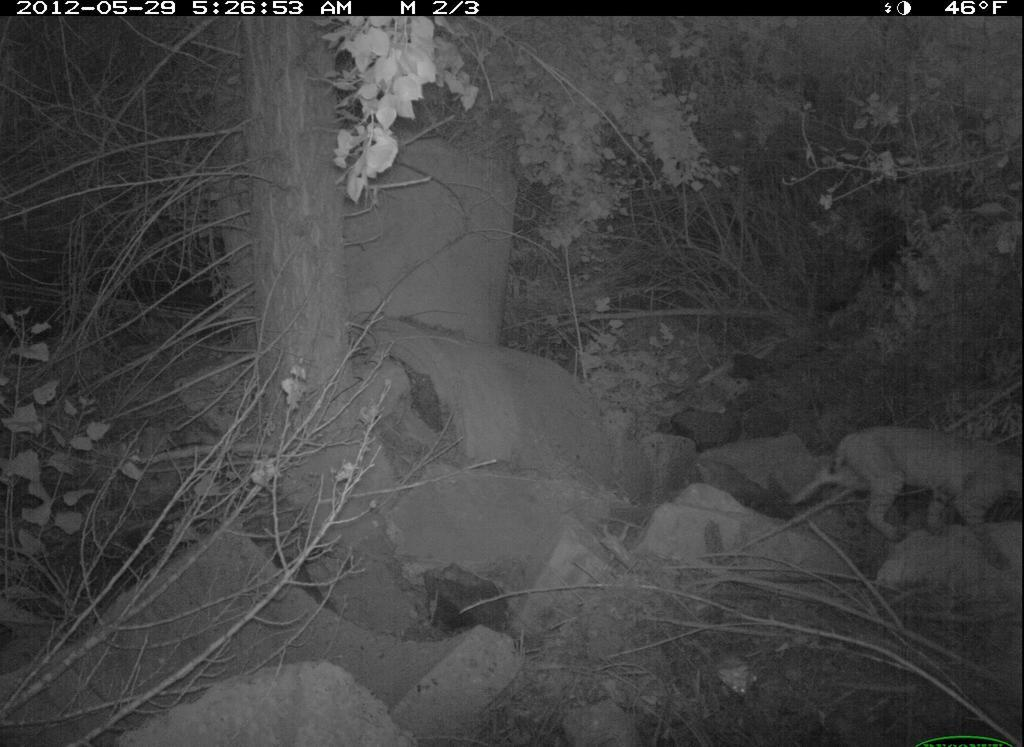bobcat: (794, 408, 1023, 578)
